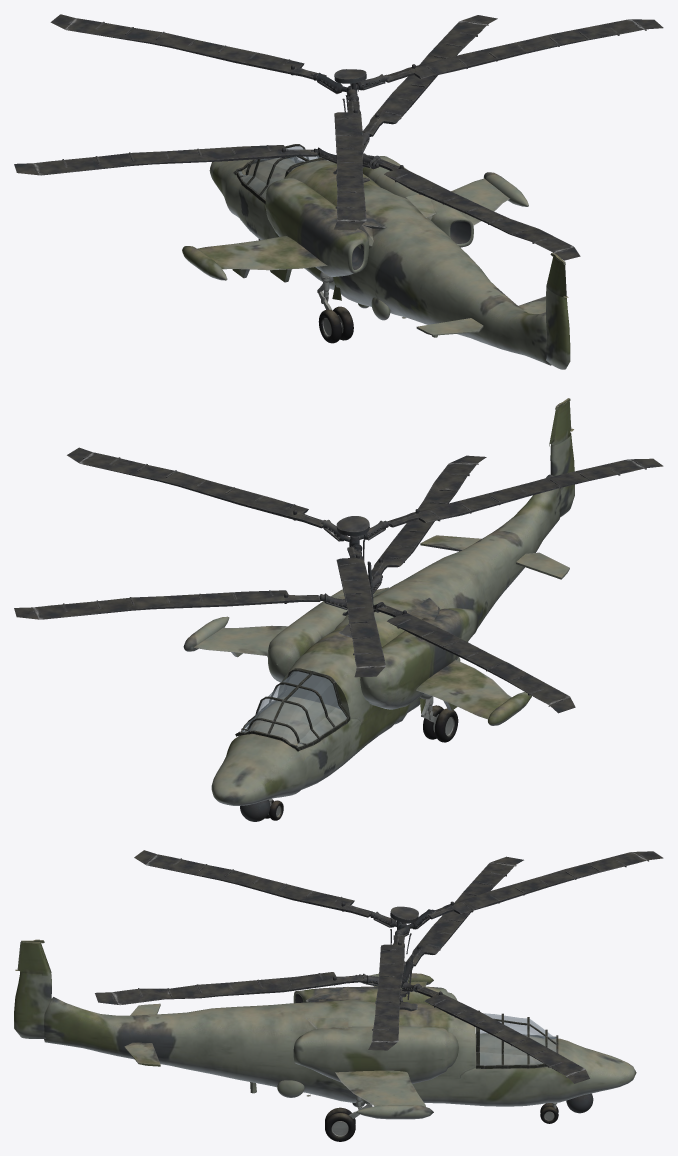
The picture shows the model from 3 angles, top to bottom: view 1: azimuth 30°, elevation 25°; view 2: azimuth 150°, elevation 25°; view 3: azimuth 270°, elevation 25°; orthographic projection. The views are drawn at different scales.
Parts seen in each view (by area): view 1: body|KA52_paint, rotor|KA52_paint, rotor2|KA52_paint, body|glass; view 2: body|KA52_paint, rotor|KA52_paint, rotor2|KA52_paint, body|glass; view 3: body|KA52_paint, rotor|KA52_paint, rotor2|KA52_paint, body|glass.
Boxes of the visible parts, x1,y1,x2,y2 form: body|KA52_paint: [182, 144, 570, 369]; rotor|KA52_paint: [50, 14, 663, 230]; rotor2|KA52_paint: [14, 15, 580, 260]; body|glass: [238, 146, 328, 199]; body|KA52_paint: [183, 398, 574, 821]; rotor|KA52_paint: [67, 447, 663, 677]; rotor2|KA52_paint: [14, 455, 575, 713]; body|glass: [242, 671, 346, 746]; body|KA52_paint: [14, 939, 636, 1141]; rotor|KA52_paint: [134, 850, 663, 1050]; rotor2|KA52_paint: [95, 856, 589, 1083]; body|glass: [480, 1013, 556, 1065].
Size of the model in its own units: 13.79 by 5.42 by 15.16.
Materials: 4 (3 with a texture image).
